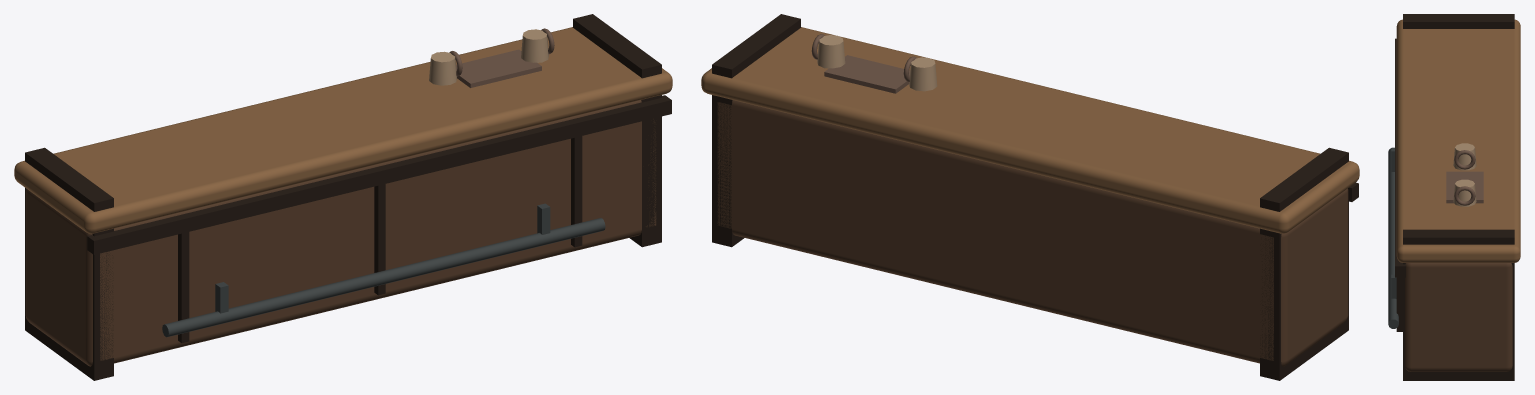
The model's file is sk_bar_counter.glb.
3 views of the same model, side by side, from view 1: azimuth 30°, elevation 25°; view 2: azimuth 150°, elevation 25°; view 3: azimuth 270°, elevation 25° (orthographic). The views are drawn at different scales.
Parts seen in each view (by area): view 1: wood, object 2, object 3, object 4, object 5; view 2: wood, object 2, object 4, object 5; view 3: wood, object 2, object 3, object 4, object 5.
Part boxes in pixels (x1=…): wood: x1=14, y1=27, x2=672, y2=366; object 2: x1=25, y1=14, x2=671, y2=380; object 3: x1=162, y1=203, x2=605, y2=337; object 4: x1=449, y1=28, x2=554, y2=87; object 5: x1=429, y1=29, x2=548, y2=85; wood: x1=701, y1=27, x2=1359, y2=366; object 2: x1=712, y1=14, x2=1358, y2=380; object 4: x1=811, y1=34, x2=916, y2=93; object 5: x1=817, y1=35, x2=937, y2=91; wood: x1=1396, y1=19, x2=1520, y2=371; object 2: x1=1395, y1=14, x2=1514, y2=380; object 3: x1=1388, y1=147, x2=1398, y2=328; object 4: x1=1446, y1=150, x2=1483, y2=205; object 5: x1=1453, y1=143, x2=1476, y2=206.
Size of the model in its own units: 3.53 by 1.17 by 0.855.
